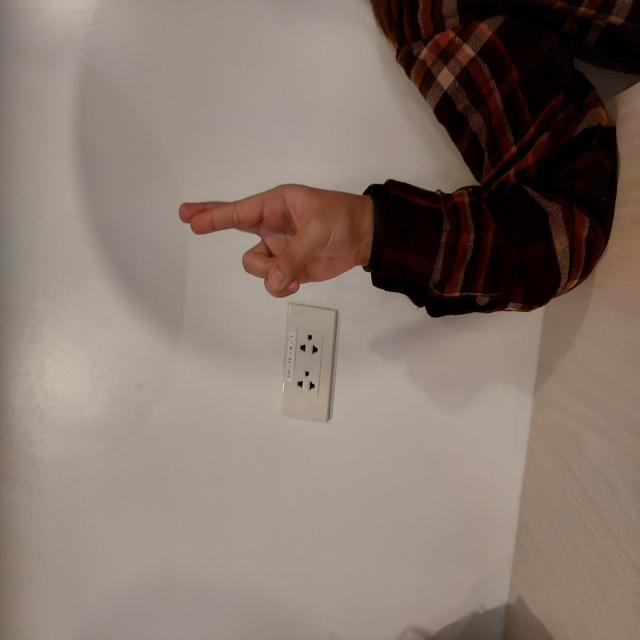R: (340, 176, 462, 370)
